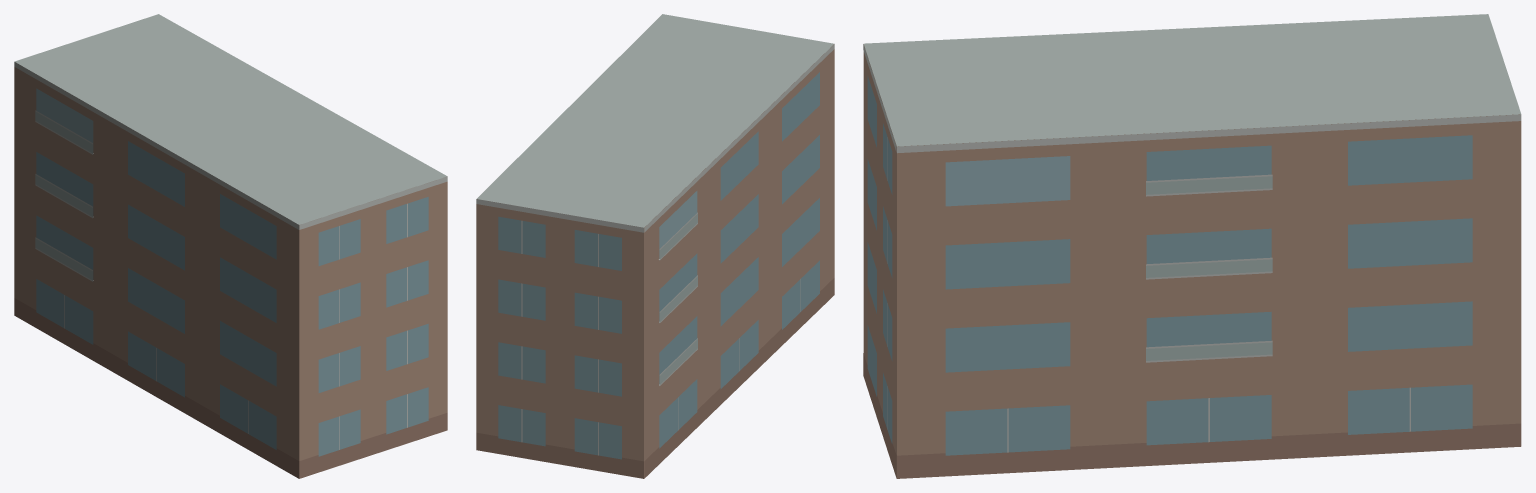
File: survey-upis-32746730.glb
The picture shows the model from 3 angles, left to right: view 1: azimuth 30°, elevation 25°; view 2: azimuth 150°, elevation 25°; view 3: azimuth 270°, elevation 25°; orthographic projection. The views are drawn at different scales.
Parts seen in each view (by area): view 1: survey-upis-32746730.tmp; view 2: survey-upis-32746730.tmp; view 3: survey-upis-32746730.tmp.
Boxes of the visible parts, x1,y1,x2,y2 form: survey-upis-32746730.tmp: [14, 14, 447, 478]; survey-upis-32746730.tmp: [476, 14, 834, 478]; survey-upis-32746730.tmp: [863, 14, 1521, 478].
Bounding box in the file's own units: 10.35 × 12.1 × 21.72.
